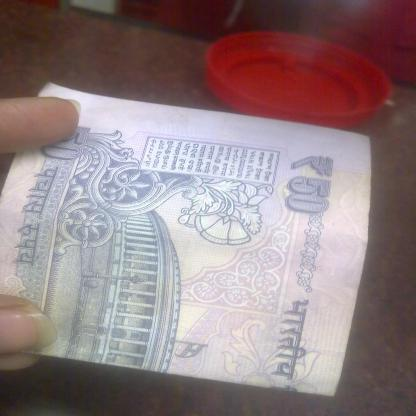Old50Back: (0, 80, 375, 400)
